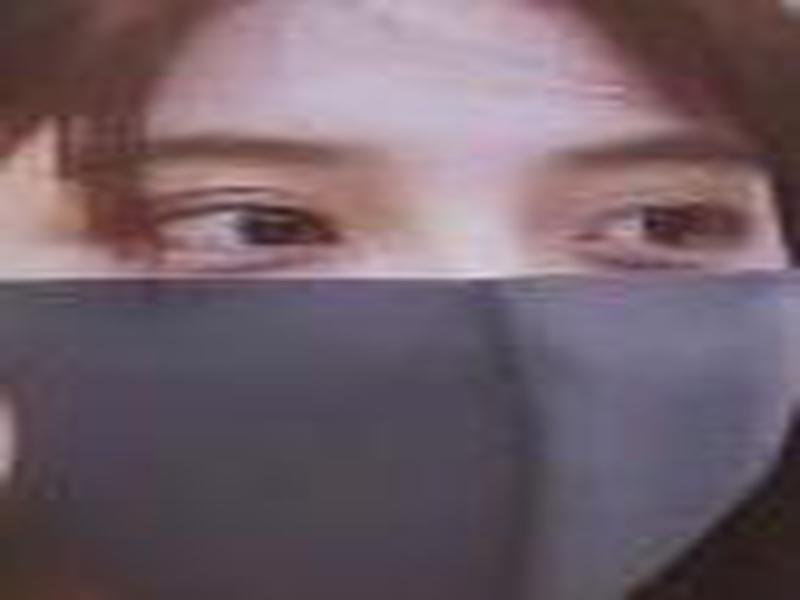with_mask: (1, 2, 793, 600)
